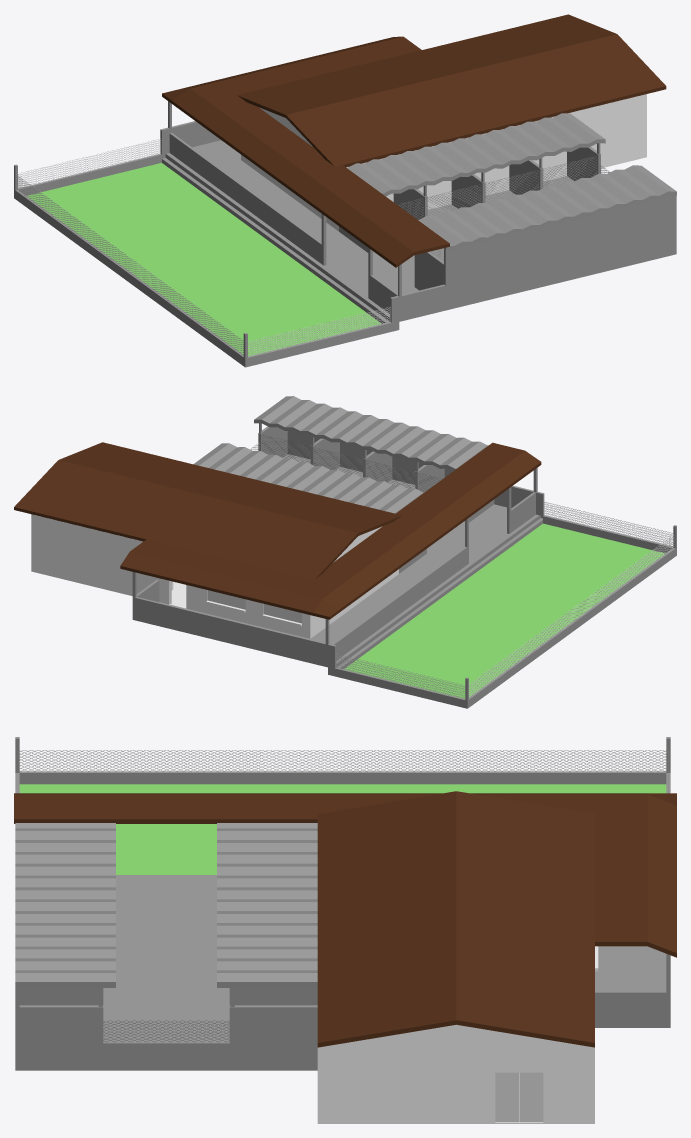
The model's file is ONG 2.0.fbx.
The picture shows the model from 3 angles, top to bottom: view 1: azimuth 30°, elevation 25°; view 2: azimuth 150°, elevation 25°; view 3: azimuth 270°, elevation 25°; orthographic projection. The views are drawn at different scales.
Visible parts, largest first — view 1: Cube.011, Cube.015, Cube.008, Cube.014, Cube.007, Cube.010, Cube.009, Cube.002, Plane.008, Plane.009, Plane.010, Plane.001 (+2 smaller); view 2: Cube.011, Cube.015, Cube.014, Cube.002, Cube.007, Cube.010, Cube.009, Cube.008, Cube.005, Plane.008, Plane.010, Plane.009 (+3 smaller); view 3: Cube.015, Cube.008, Cube.014, Cube.002, Cube.011, Cube.009, Cube.010, Plane.008, Cube.005, Cube.007, Plane.011, Cube.012 (+1 smaller).
Boxes of the visible parts, x1=… form: Cube.011: x1=14, y1=127, x2=399, y2=367; Cube.015: x1=237, y1=14, x2=666, y2=167; Cube.008: x1=339, y1=143, x2=676, y2=310; Cube.014: x1=162, y1=36, x2=449, y2=267; Cube.007: x1=168, y1=101, x2=445, y2=321; Cube.010: x1=418, y1=165, x2=676, y2=249; Cube.009: x1=347, y1=113, x2=605, y2=196; Cube.002: x1=241, y1=94, x2=646, y2=231; Plane.008: x1=16, y1=175, x2=243, y2=355; Plane.009: x1=248, y1=307, x2=390, y2=356; Plane.010: x1=18, y1=139, x2=161, y2=188; Plane.001: x1=427, y1=184, x2=481, y2=215; Cube.011: x1=328, y1=491, x2=676, y2=708; Cube.015: x1=14, y1=442, x2=401, y2=579; Cube.014: x1=120, y1=442, x2=541, y2=619; Cube.002: x1=31, y1=514, x2=398, y2=638; Cube.007: x1=286, y1=468, x2=537, y2=667; Cube.010: x1=254, y1=396, x2=488, y2=471; Cube.009: x1=193, y1=443, x2=423, y2=513; Cube.008: x1=258, y1=423, x2=494, y2=573; Cube.005: x1=132, y1=572, x2=309, y2=656; Plane.008: x1=469, y1=535, x2=674, y2=697; Plane.010: x1=335, y1=654, x2=465, y2=698; Plane.009: x1=543, y1=502, x2=673, y2=546; Cube.015: x1=317, y1=791, x2=594, y2=1047; Cube.008: x1=15, y1=909, x2=317, y2=1070; Cube.014: x1=14, y1=793, x2=676, y2=957; Cube.002: x1=317, y1=946, x2=598, y2=1123; Cube.011: x1=15, y1=737, x2=670, y2=877; Cube.009: x1=217, y1=823, x2=317, y2=987; Cube.010: x1=15, y1=823, x2=115, y2=987; Plane.008: x1=19, y1=750, x2=666, y2=772; Cube.005: x1=595, y1=946, x2=670, y2=1027; Cube.007: x1=116, y1=877, x2=216, y2=909; Plane.011: x1=103, y1=1020, x2=229, y2=1042; Cube.012: x1=495, y1=1072, x2=519, y2=1122.
Size of the model in its own units: 6850 by 1125 by 5260.
